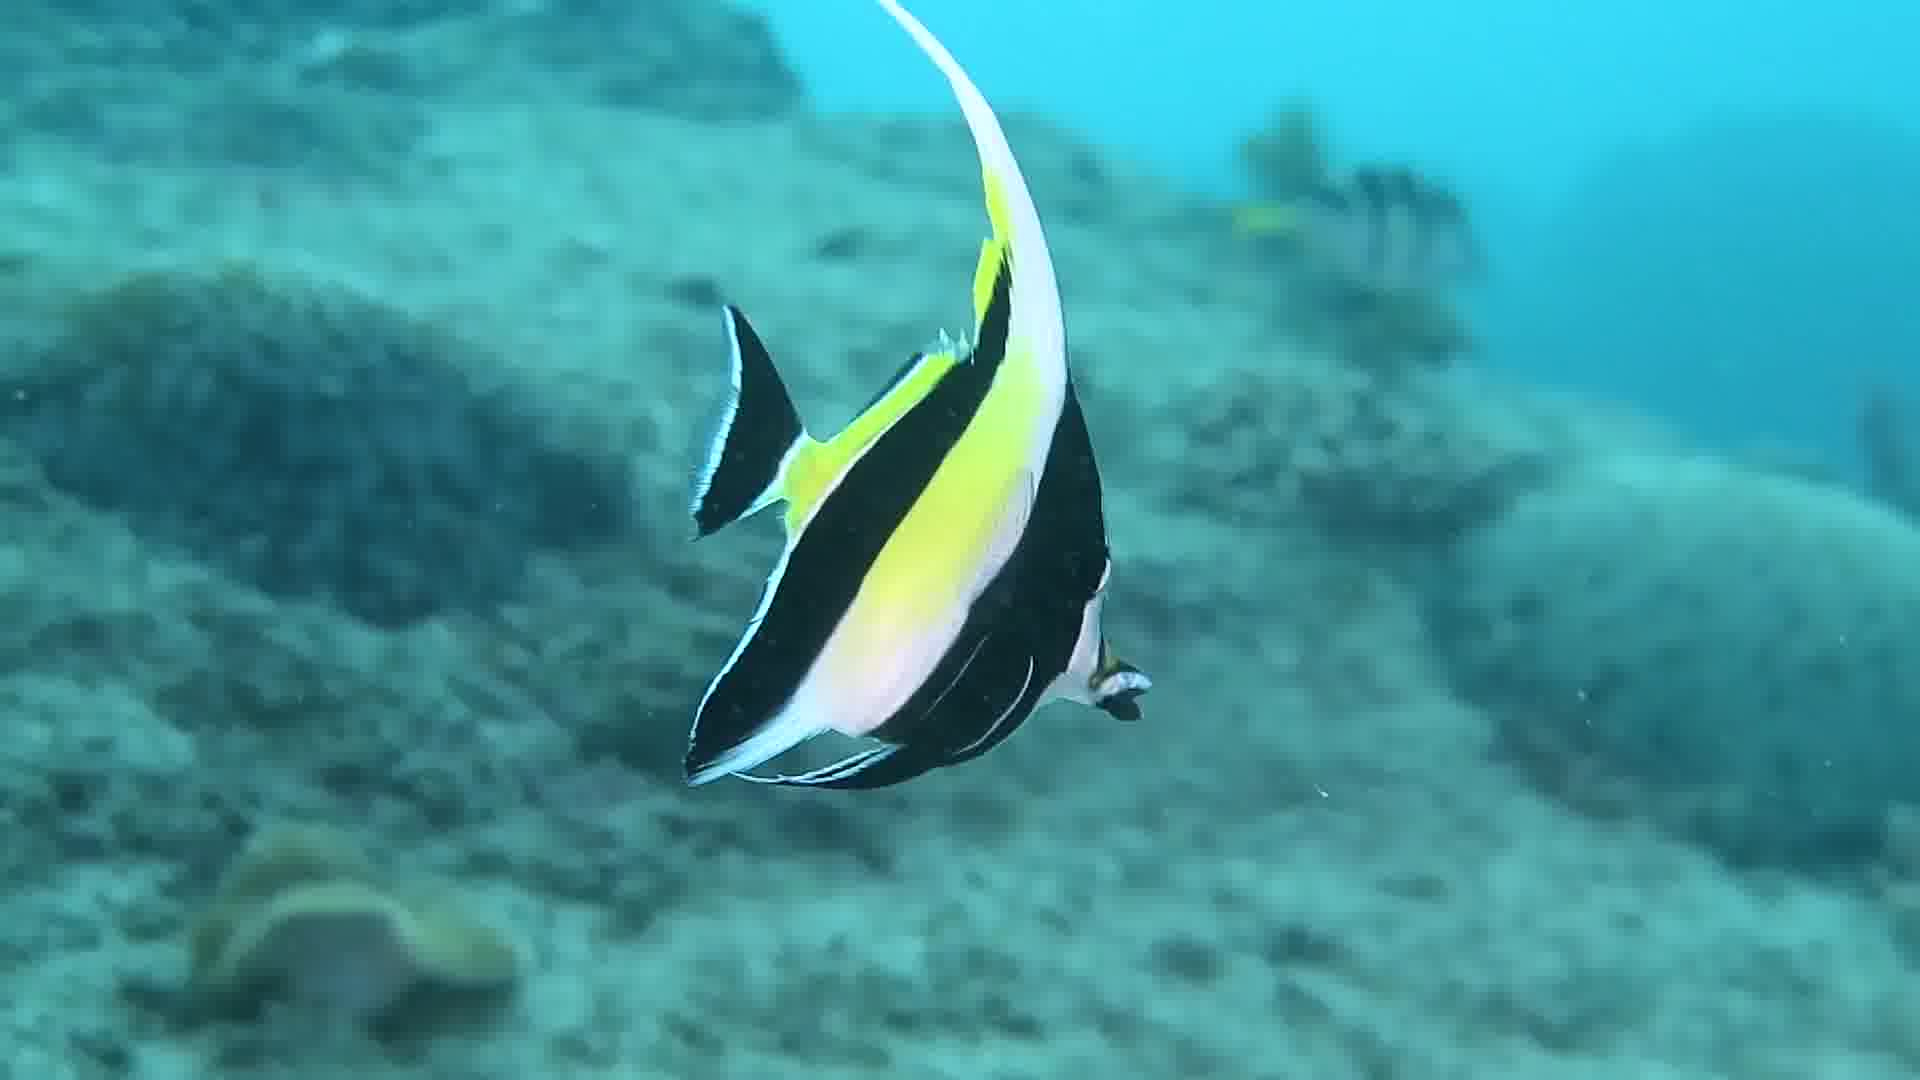Zanclus cornutus: (653, 1, 1188, 876)
